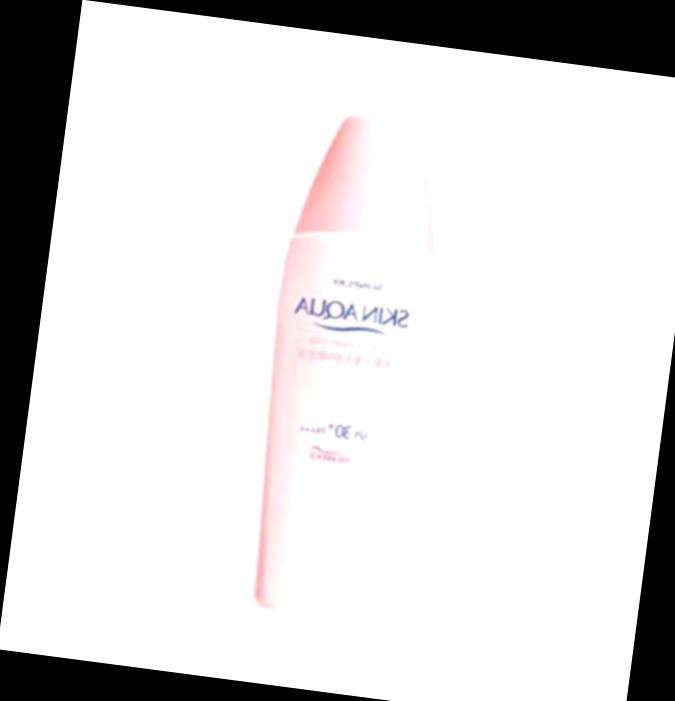cosmetic: (239, 103, 450, 630)
